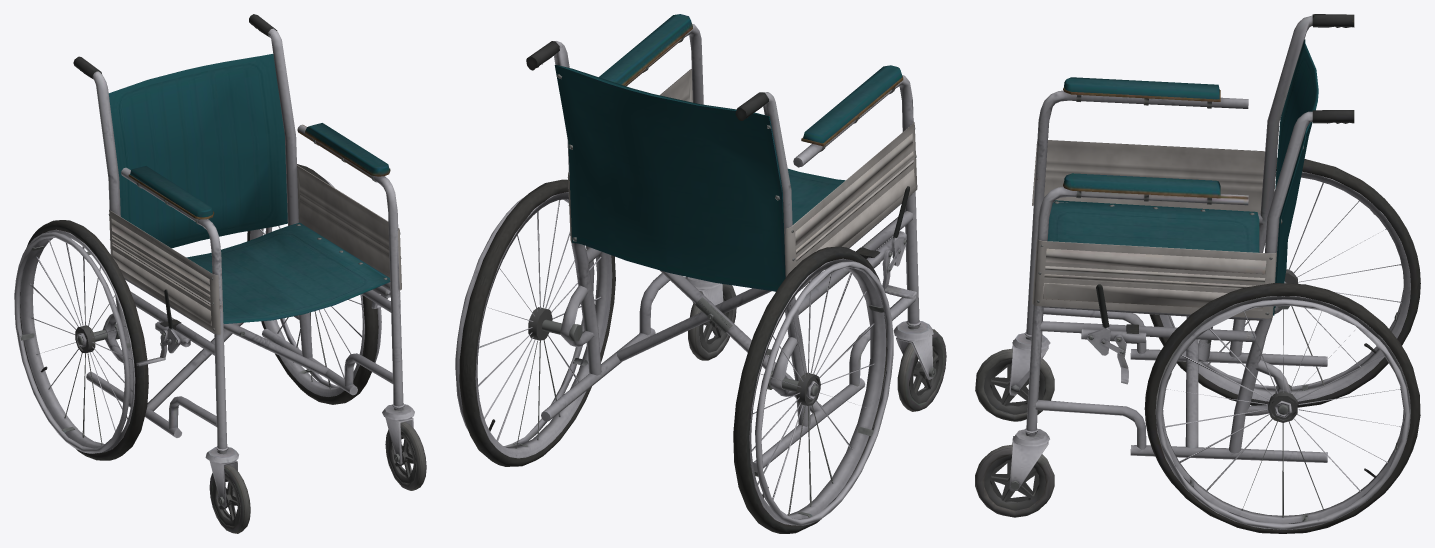
File: wheelchair_01_lod.glb
The picture shows the model from 3 angles, left to right: view 1: azimuth 30°, elevation 25°; view 2: azimuth 150°, elevation 25°; view 3: azimuth 270°, elevation 25°; orthographic projection. The views are drawn at different scales.
Visible parts, largest first — view 1: wheelchair_01; view 2: wheelchair_01; view 3: wheelchair_01.
Boxes of the visible parts, x1,y1,x2,y2 form: wheelchair_01: (14,14,426,533); wheelchair_01: (455,14,946,533); wheelchair_01: (975,14,1420,533).
Bounding box in the file's own units: 0.8241 × 1.1 × 1.09.
1 material, 1 textured.
